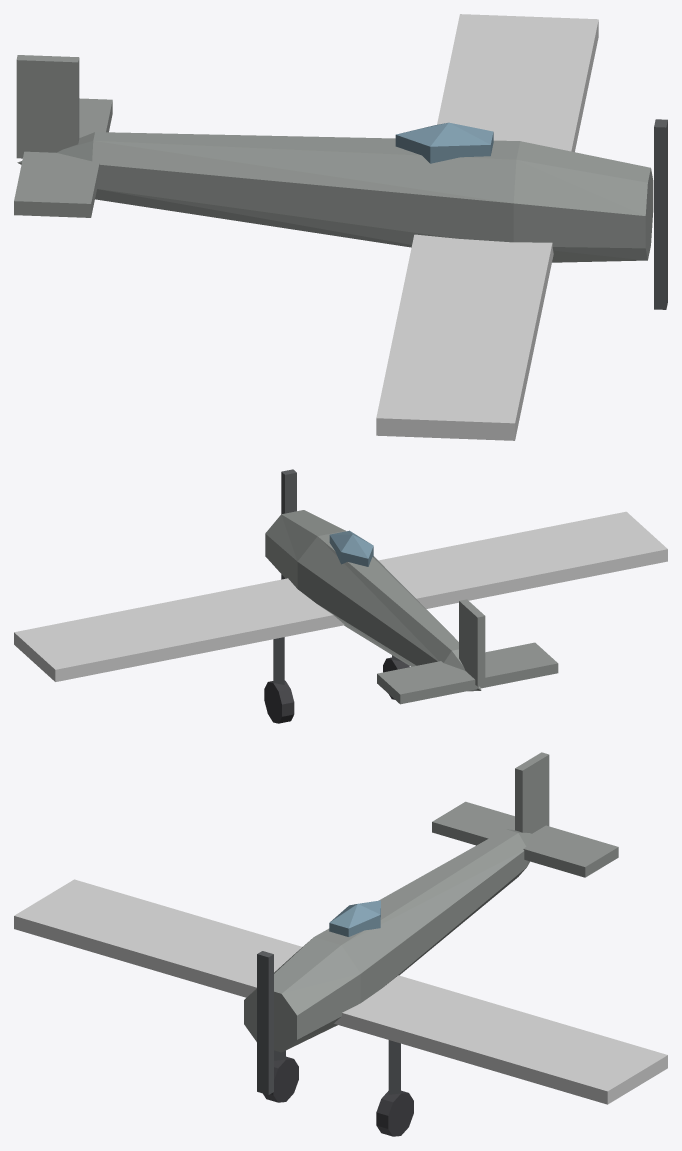
The model's file is fighter.glb.
The picture shows the model from 3 angles, top to bottom: view 1: azimuth 30°, elevation 25°; view 2: azimuth 150°, elevation 25°; view 3: azimuth 270°, elevation 25°; orthographic projection. The views are drawn at different scales.
Visible parts, largest first — view 1: LOD0; view 2: LOD0; view 3: LOD0.
Part boxes in pixels (left/top/right/bottom): LOD0: left=14, top=14, right=667, bottom=440; LOD0: left=14, top=469, right=667, bottom=723; LOD0: left=14, top=752, right=667, bottom=1136.
Size of what is drawn, in the model's own units: 1.01 by 0.45 by 1.12.
